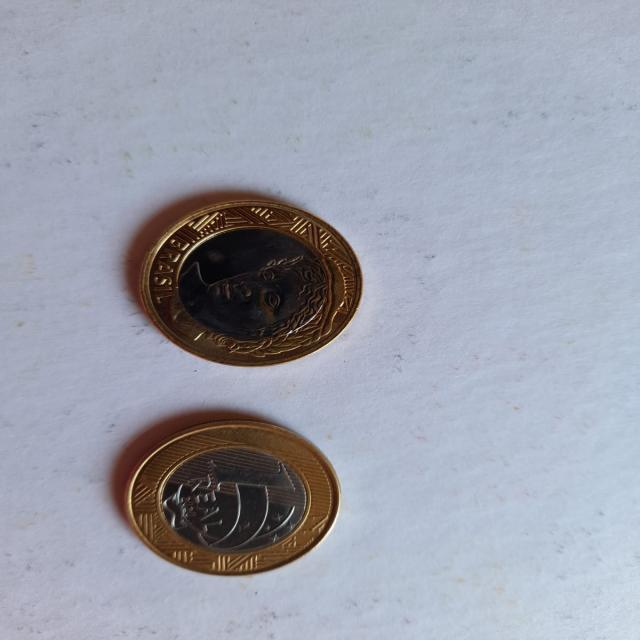1 real: (109, 190, 376, 374), (109, 416, 355, 578)
